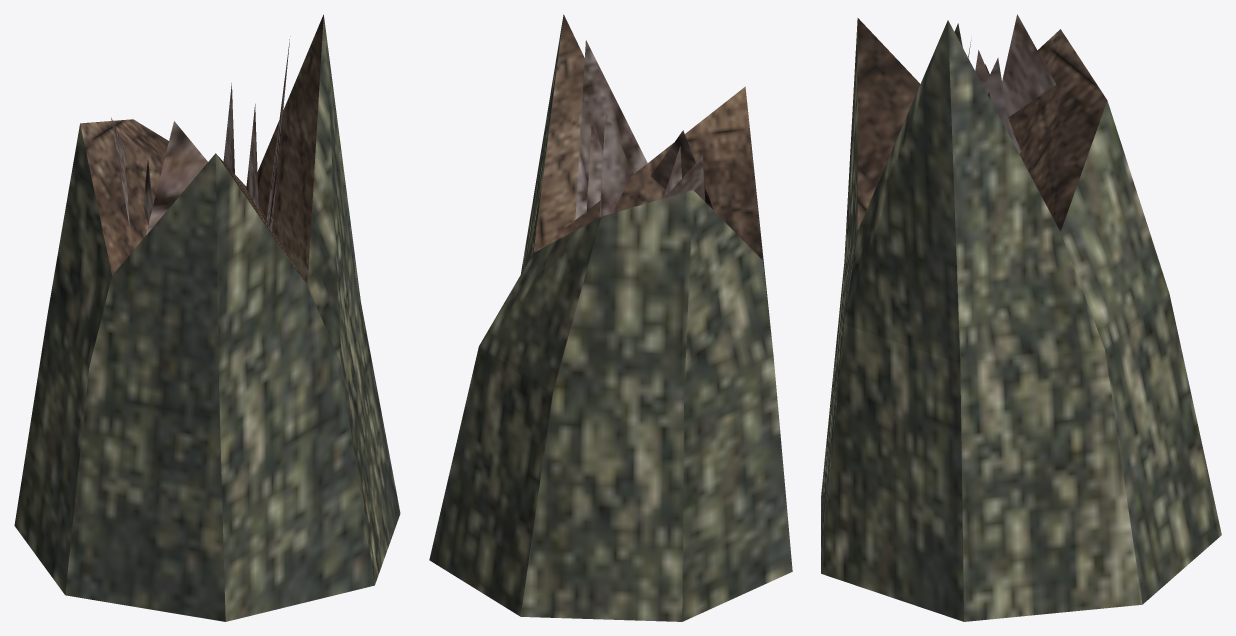
File: Generic_Tree_Trunk_001.fbx
3 views of the same model, side by side, from view 1: azimuth 30°, elevation 25°; view 2: azimuth 150°, elevation 25°; view 3: azimuth 270°, elevation 25° (orthographic). The views are drawn at different scales.
Visible parts, largest first — view 1: Tree004_Trunk; view 2: Tree004_Trunk; view 3: Tree004_Trunk.
Part boxes in pixels (bbox=[...]): Tree004_Trunk: bbox=[14, 14, 400, 621]; Tree004_Trunk: bbox=[429, 14, 792, 621]; Tree004_Trunk: bbox=[821, 14, 1221, 621].
Size of the model in its own units: 137 by 205 by 133.
